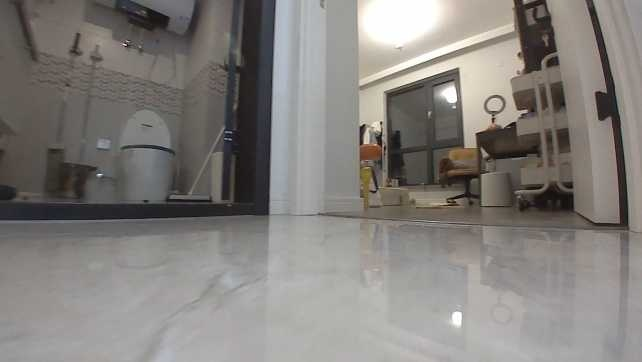door_sill: (0, 197, 253, 220)
toilet: (111, 105, 176, 201)
